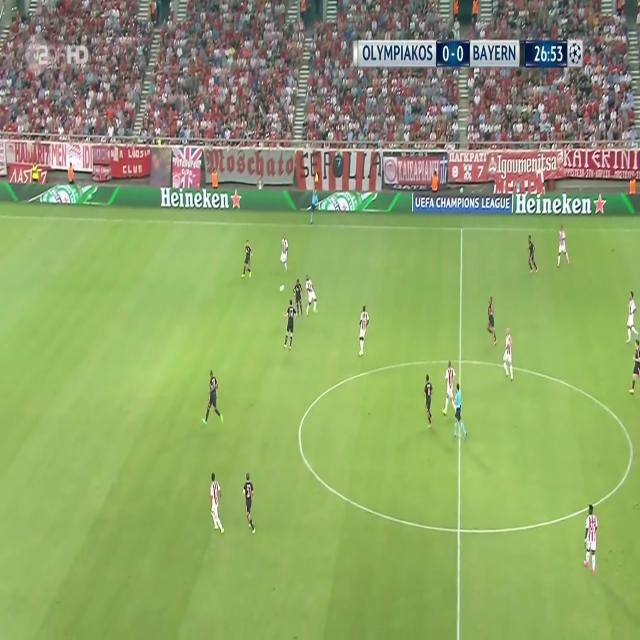Ball: (279, 282, 286, 296)
Player: (582, 502, 599, 578), (202, 368, 224, 426), (208, 472, 227, 536), (356, 302, 371, 360), (243, 473, 257, 535), (442, 361, 457, 418), (282, 301, 298, 352), (484, 295, 499, 346), (625, 290, 639, 344), (627, 340, 640, 398), (424, 371, 436, 431), (525, 233, 542, 274), (502, 327, 514, 382), (240, 238, 254, 283), (304, 273, 318, 317), (557, 226, 571, 268), (292, 276, 305, 316), (278, 233, 290, 270)
Referee: (453, 380, 468, 442), (307, 188, 319, 225)
